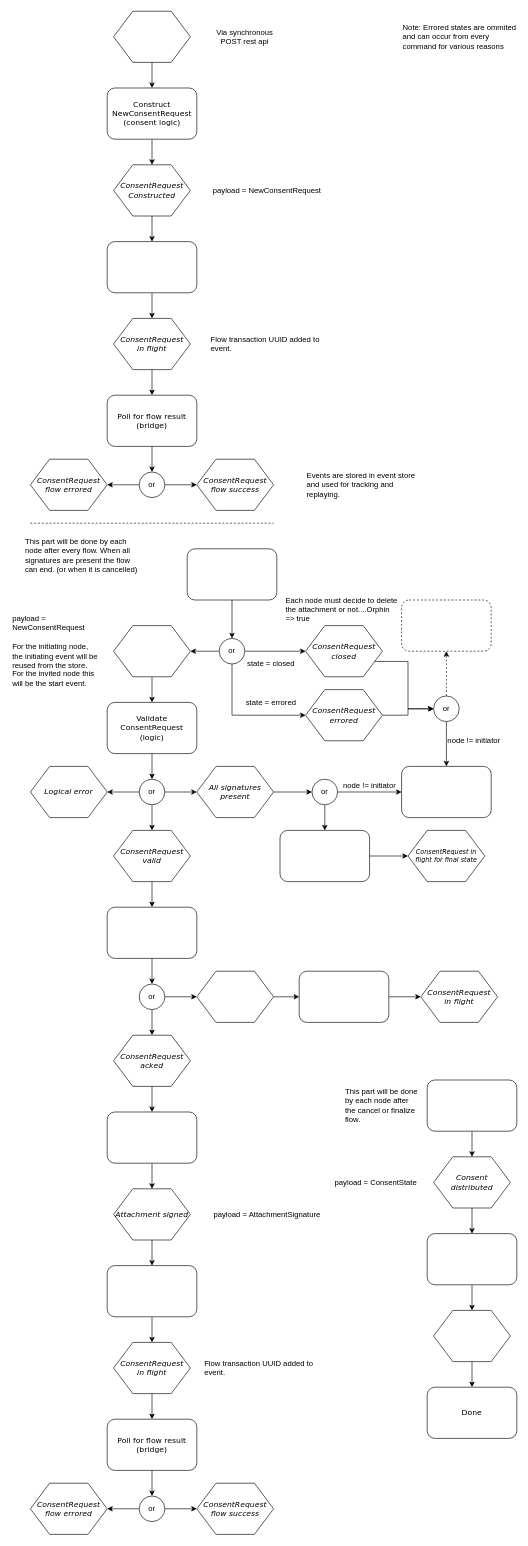
Some shapes in this 528 by 1546 pixel diagram are drawn without their labels. The shapes that lost their labels are listed below. From the top down, each one's box as (x1, y1, x2, y2) in pixels, then its label:
(113, 11, 190, 62): Change requested by user
(107, 241, 197, 293): Initiate NewConsentRequest flow (bridge)
(187, 548, 277, 600): ConsentRequestState event received (bridge)
(401, 599, 491, 651): Initiate DeleteConsentRequest flow (bridge)
(113, 625, 190, 677): Distributed ConsentRequest received
(401, 766, 491, 818): nop
(279, 830, 370, 882): Initiate MergeBranch flow (bridge)
(107, 907, 197, 958): Ack request, patient is in care (logic or vendor)
(196, 971, 274, 1022): ConsentRequest nacked
(299, 971, 389, 1022): Initiate CloseConsentRequest flow (bridge)
(427, 1079, 517, 1131): ConsentState event received (bridge)
(107, 1111, 197, 1163): Sign attachment (logic)
(427, 1233, 517, 1285): Store consent (consent store)
(107, 1265, 197, 1317): Initiate AcceptConsentRequest flow (bridge)
(433, 1310, 510, 1362): Completed
